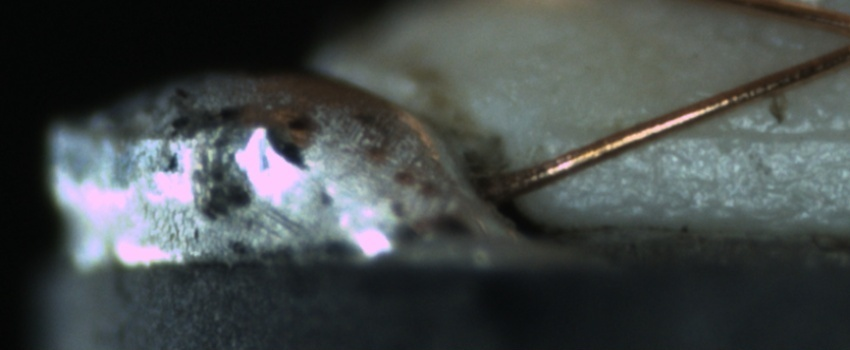DL: (565, 100, 850, 162)
